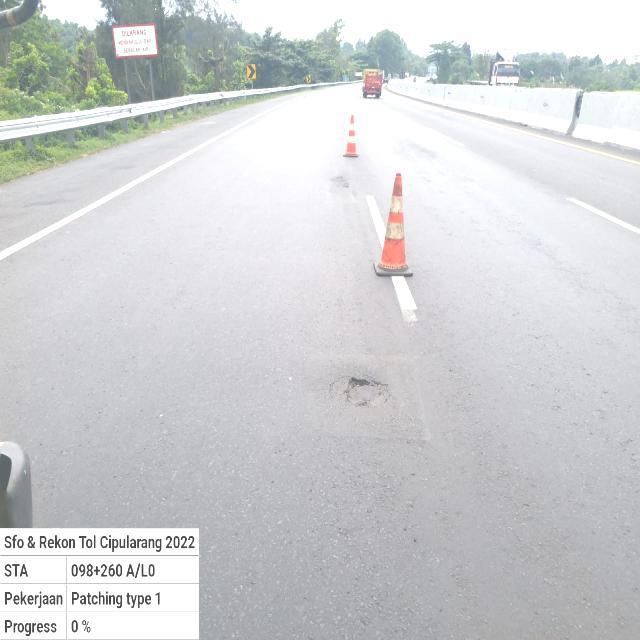Buraco: (341, 375, 393, 410)
